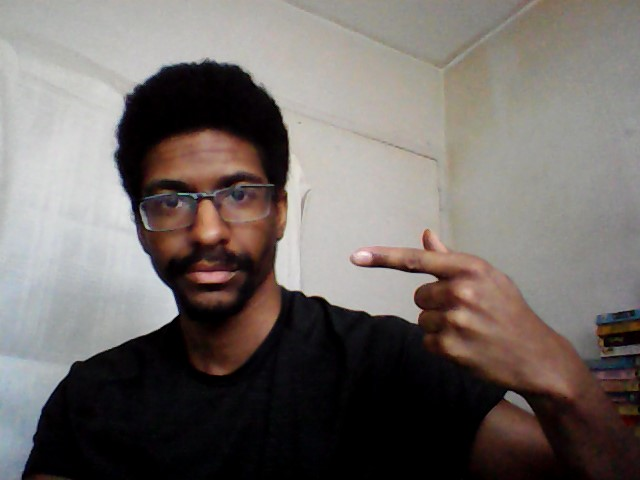g: (348, 223, 564, 391)
